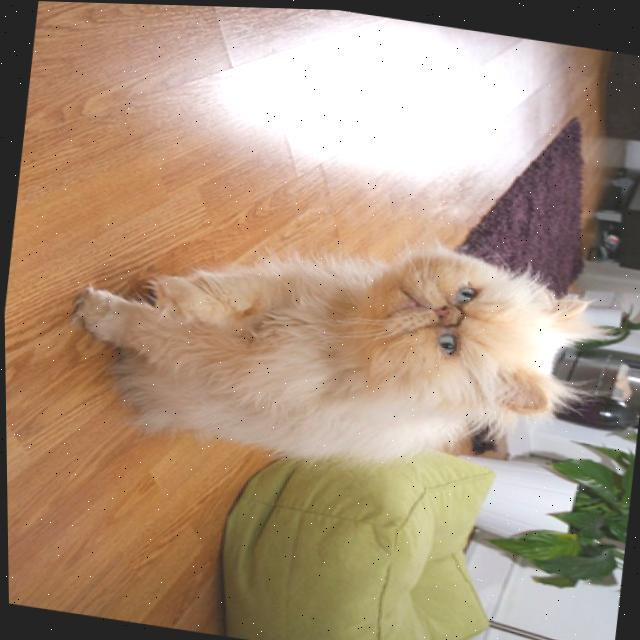Persian: (54, 191, 631, 506)
